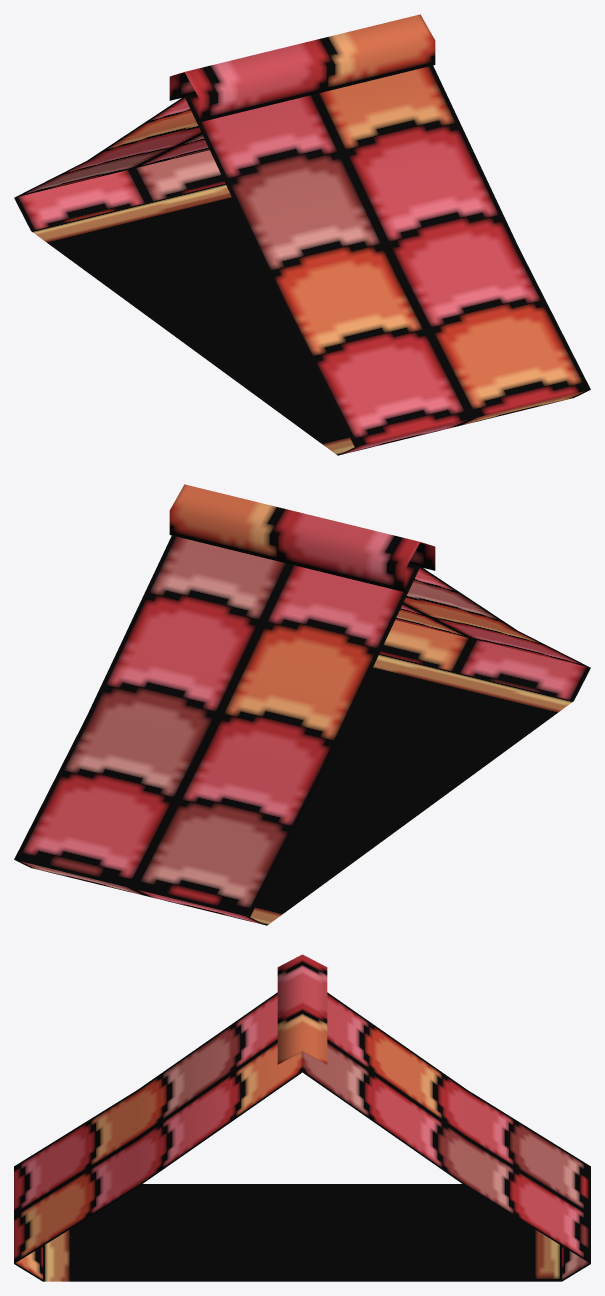
Rendered from arch_roof_straight_tiles.FBX.
The picture shows the model from 3 angles, top to bottom: view 1: azimuth 30°, elevation 25°; view 2: azimuth 150°, elevation 25°; view 3: azimuth 270°, elevation 25°; orthographic projection. The views are drawn at different scales.
Visible parts, largest first — view 1: arch_roof_straight_tiles; view 2: arch_roof_straight_tiles; view 3: arch_roof_straight_tiles.
Boxes of the visible parts, x1,y1,x2,y2 form: arch_roof_straight_tiles: [14, 14, 590, 455]; arch_roof_straight_tiles: [14, 484, 590, 925]; arch_roof_straight_tiles: [14, 954, 590, 1281].
Size of the model in its own units: 2 by 2.2 by 5.
Materials: 1 (1 with a texture image).
